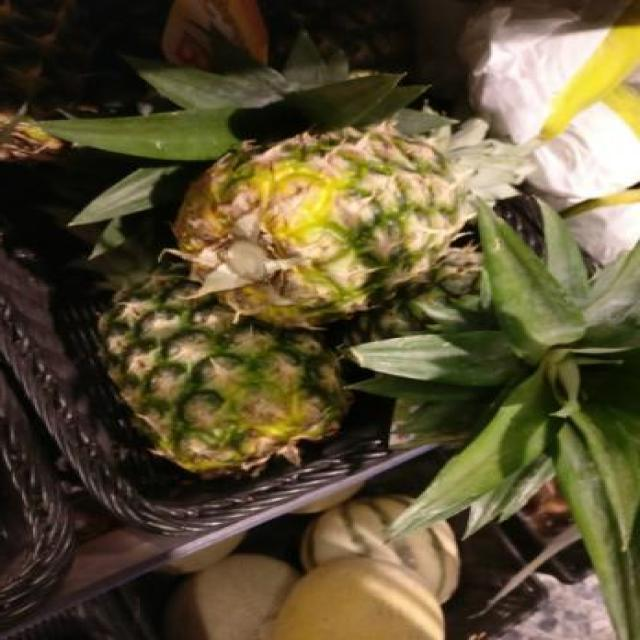pineapple: (350, 202, 640, 639), (173, 116, 528, 328), (98, 244, 347, 474)
